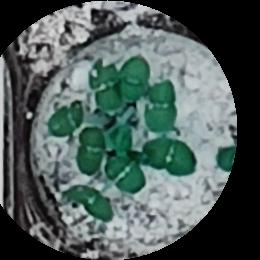Basil: (78, 63, 119, 116), (145, 136, 196, 176), (74, 125, 111, 178), (68, 182, 114, 222), (146, 81, 182, 129), (121, 57, 157, 103), (45, 103, 90, 139), (106, 156, 147, 192)
